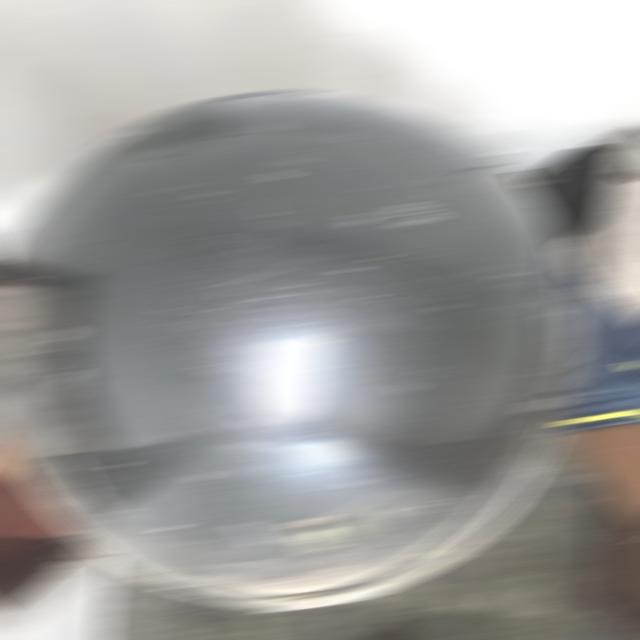With Helmet: (0, 89, 597, 609)
